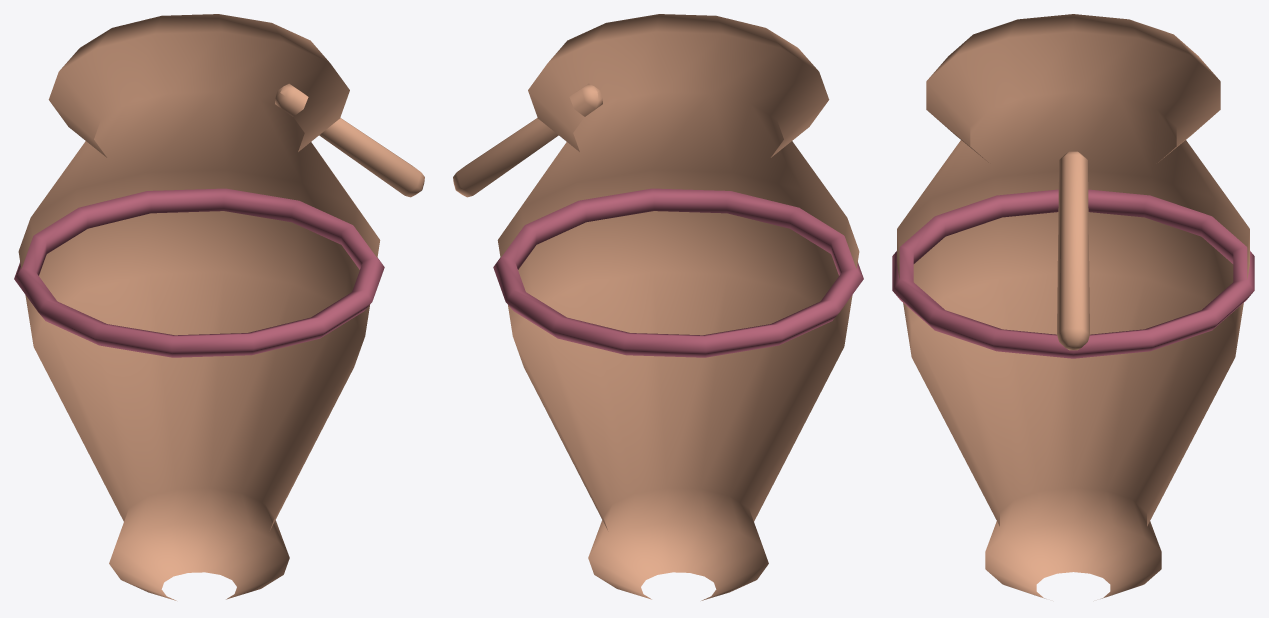
Rendered from mythic-underworld-and-olympus-oinochoe-jug-bc3831f7__21423.glb.
3 views of the same model, side by side, from view 1: azimuth 30°, elevation 25°; view 2: azimuth 150°, elevation 25°; view 3: azimuth 270°, elevation 25° (orthographic).
Visible parts, largest first — view 1: oinochoe-jug; view 2: oinochoe-jug; view 3: oinochoe-jug.
Boxes of the visible parts, bbox=[...] form: oinochoe-jug: bbox=[14, 14, 424, 600]; oinochoe-jug: bbox=[453, 14, 863, 600]; oinochoe-jug: bbox=[892, 14, 1254, 598].
Bounding box in the file's own units: 0.5866 × 0.76 × 0.4797.
